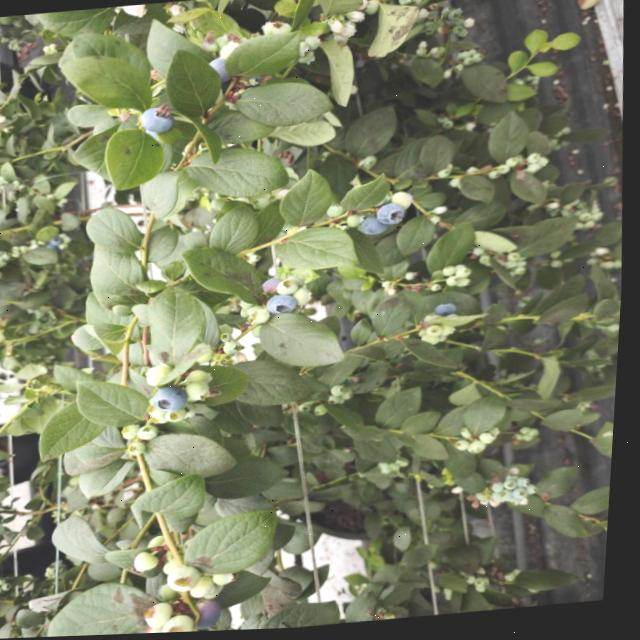RipeBlueBerry: (141, 104, 179, 135), (157, 385, 193, 414), (207, 57, 238, 84), (271, 295, 303, 318), (364, 217, 391, 239), (439, 305, 463, 320), (53, 236, 66, 247)
Semi-RipeBlueBerry: (197, 599, 233, 632), (264, 279, 286, 295)
UnripeBlueBerry: (173, 564, 207, 593), (150, 602, 182, 628), (379, 204, 409, 228), (170, 615, 204, 634), (139, 551, 168, 573), (149, 365, 175, 388), (198, 577, 224, 599), (190, 382, 216, 403), (190, 370, 220, 386), (280, 279, 304, 297), (394, 193, 416, 212), (270, 21, 293, 38), (142, 425, 165, 441), (255, 310, 275, 327), (169, 410, 193, 424), (125, 424, 144, 441), (430, 326, 450, 341), (133, 442, 153, 457), (329, 205, 347, 220), (229, 342, 248, 355)
